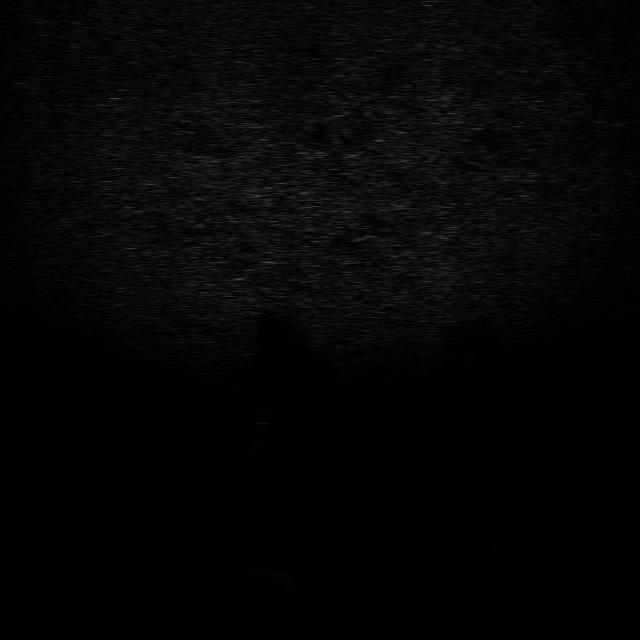metal bucket: (448, 500, 514, 559), (246, 406, 286, 426)
tyre: (242, 564, 322, 594)
